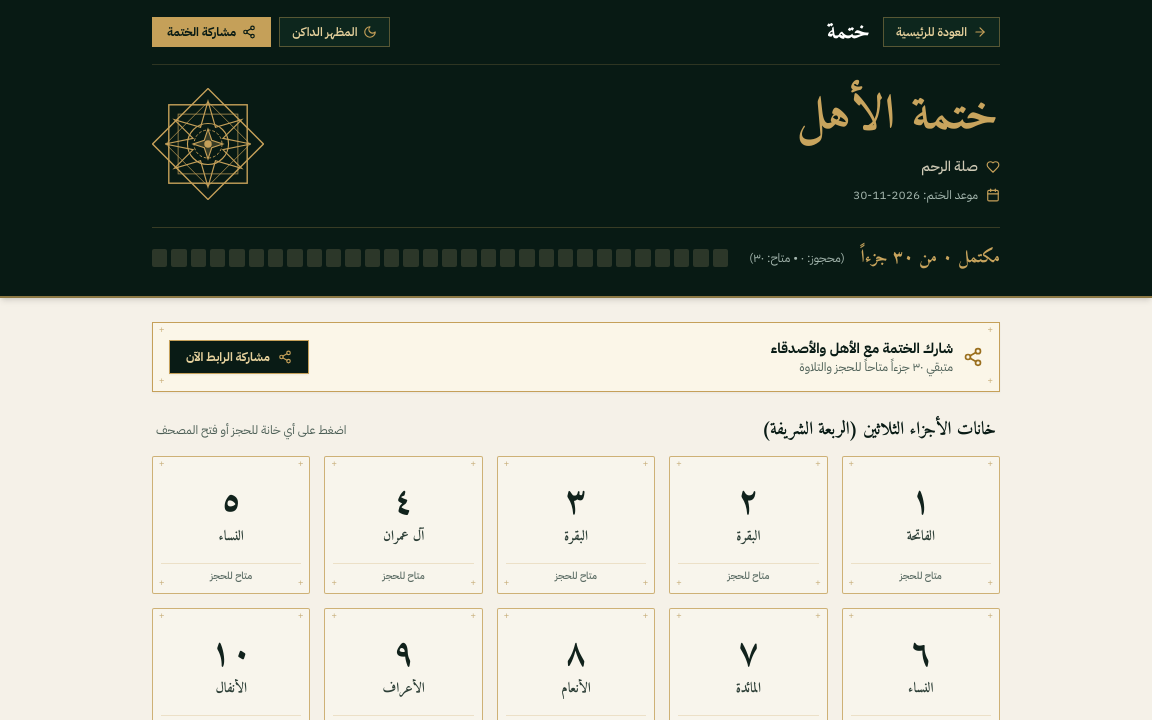
Test case: Khatma 30-Juz flow › displays active reserved banner and enables quick reading access
Expected: the heading "ختمة الأهل" is shown, 797,74 -> 1000,158
Click the element with test id "juz-card-5".
click(231, 525)  # box 152,456 -> 310,594
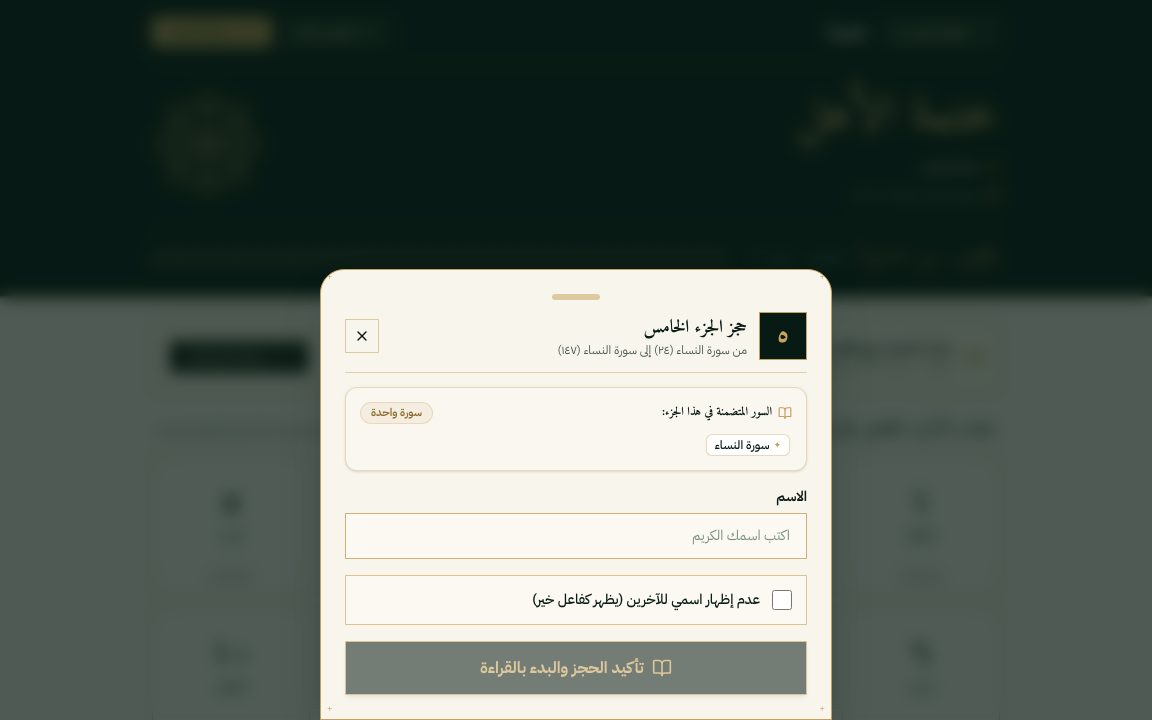
Type "أحمد" into the field labelled "الاسم".
click(576, 536); type("أحمد")  # box 345,513 -> 807,559
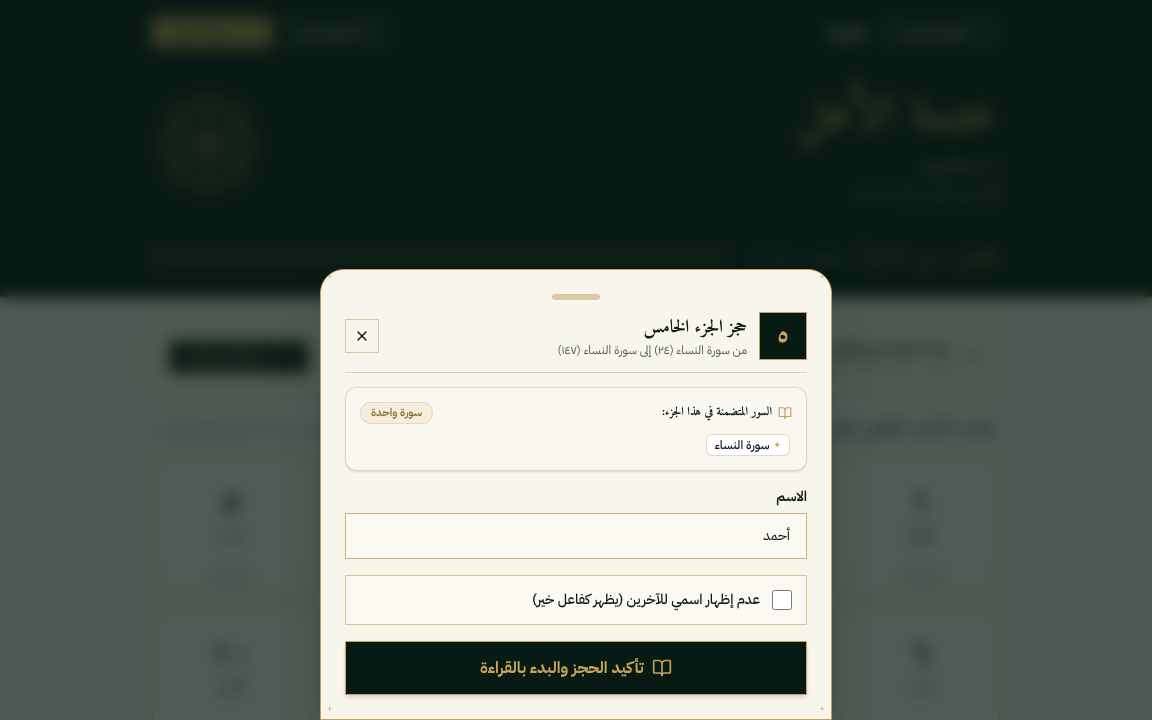
Click the button with test id "confirm-reserve-btn".
click(576, 668)  # box 345,641 -> 807,695
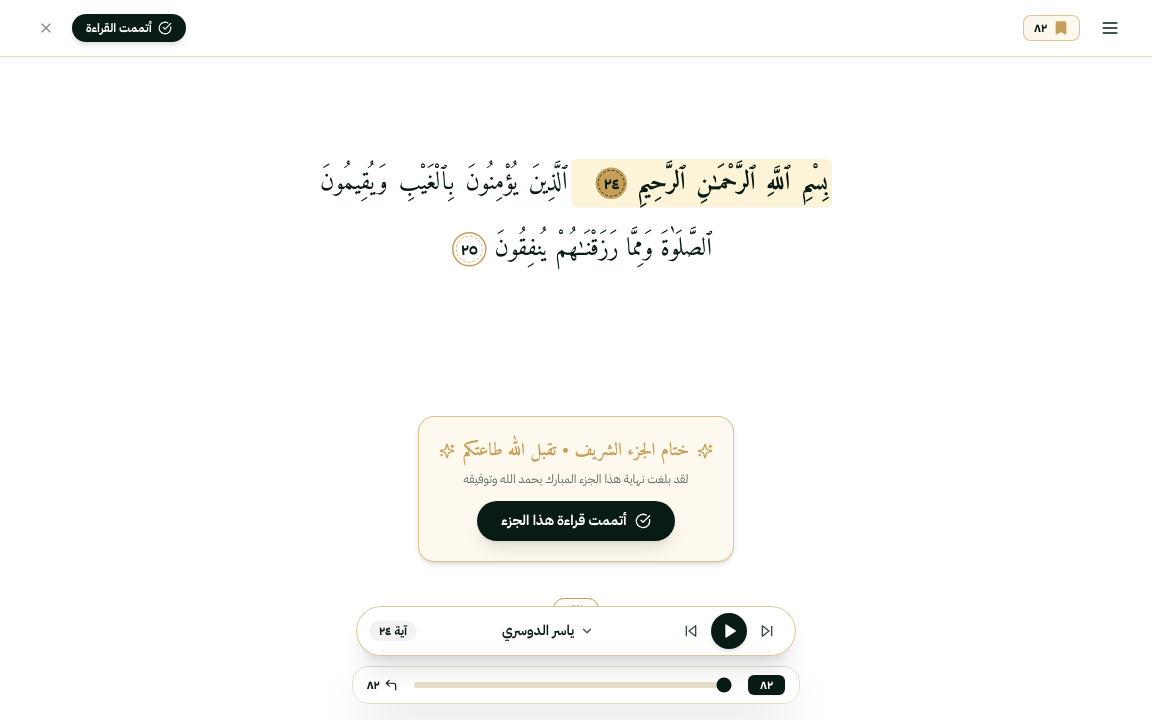
Expected: the element with test id "quran-reader-modal" is shown
Close reader
Click the button named "إغلاق".
click(46, 28)  # box 28,10 -> 64,46
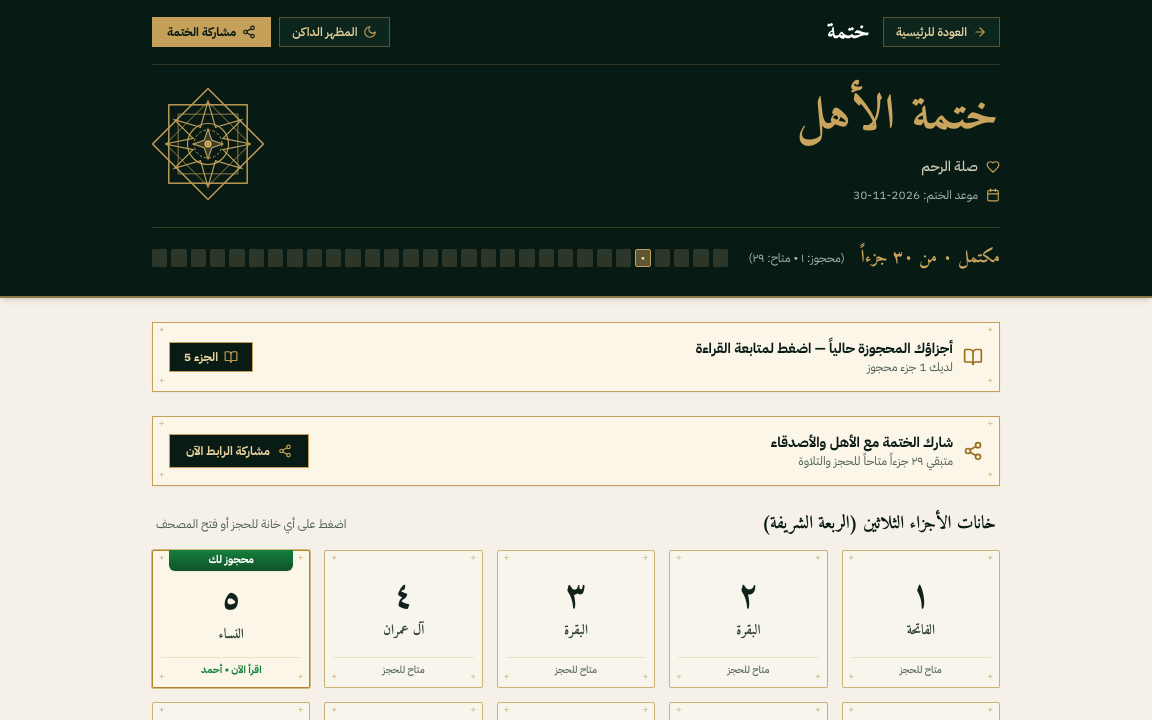
Expected: the heading "أجزاؤك المحجوزة حالياً — اضغط لمتابعة القراءة" is shown, 696,339 -> 953,359
Expected: the text "الجزء 5" is shown, 184,349 -> 218,365
Clicking it should re-open reader modal
Click the button "الجزء 5".
click(211, 357)  # box 169,342 -> 253,372
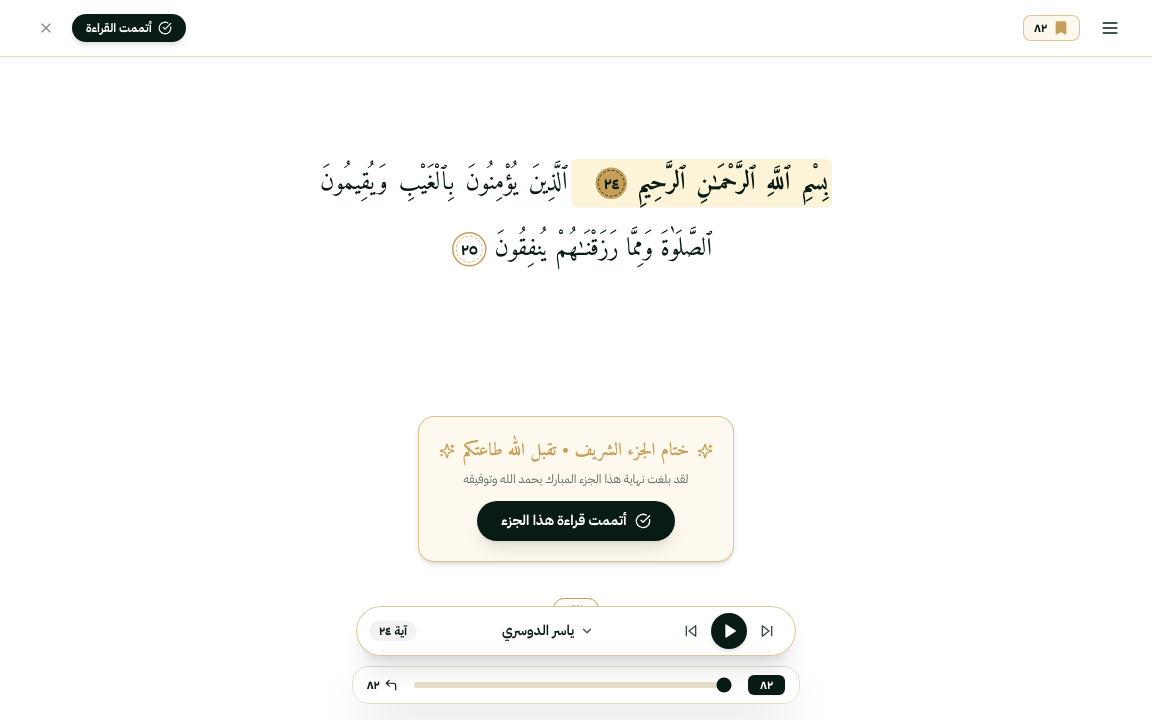
Expected: the element with test id "quran-reader-modal" is shown
